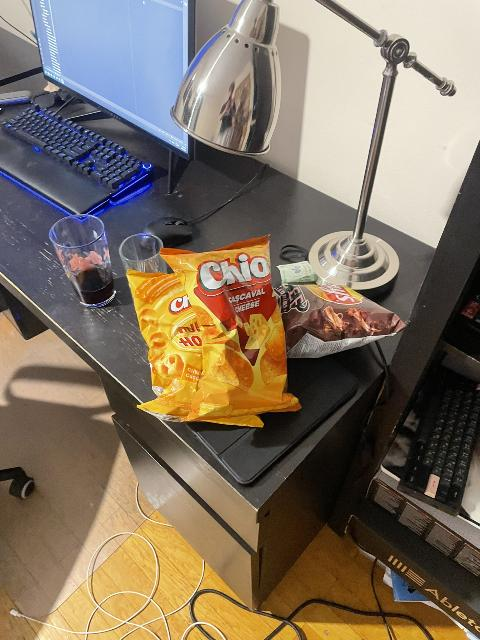Chio Cascaval 125g: (154, 233, 302, 420)
Chio Hula Hoops Cheese 70g: (130, 273, 262, 429)
Lays Beef Grilled Ribs 125g: (274, 278, 403, 357)
